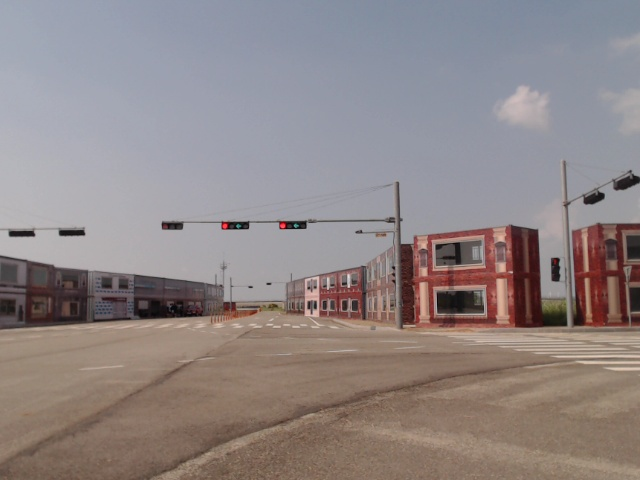left_green_4: (279, 222, 307, 229), (222, 222, 249, 229)
